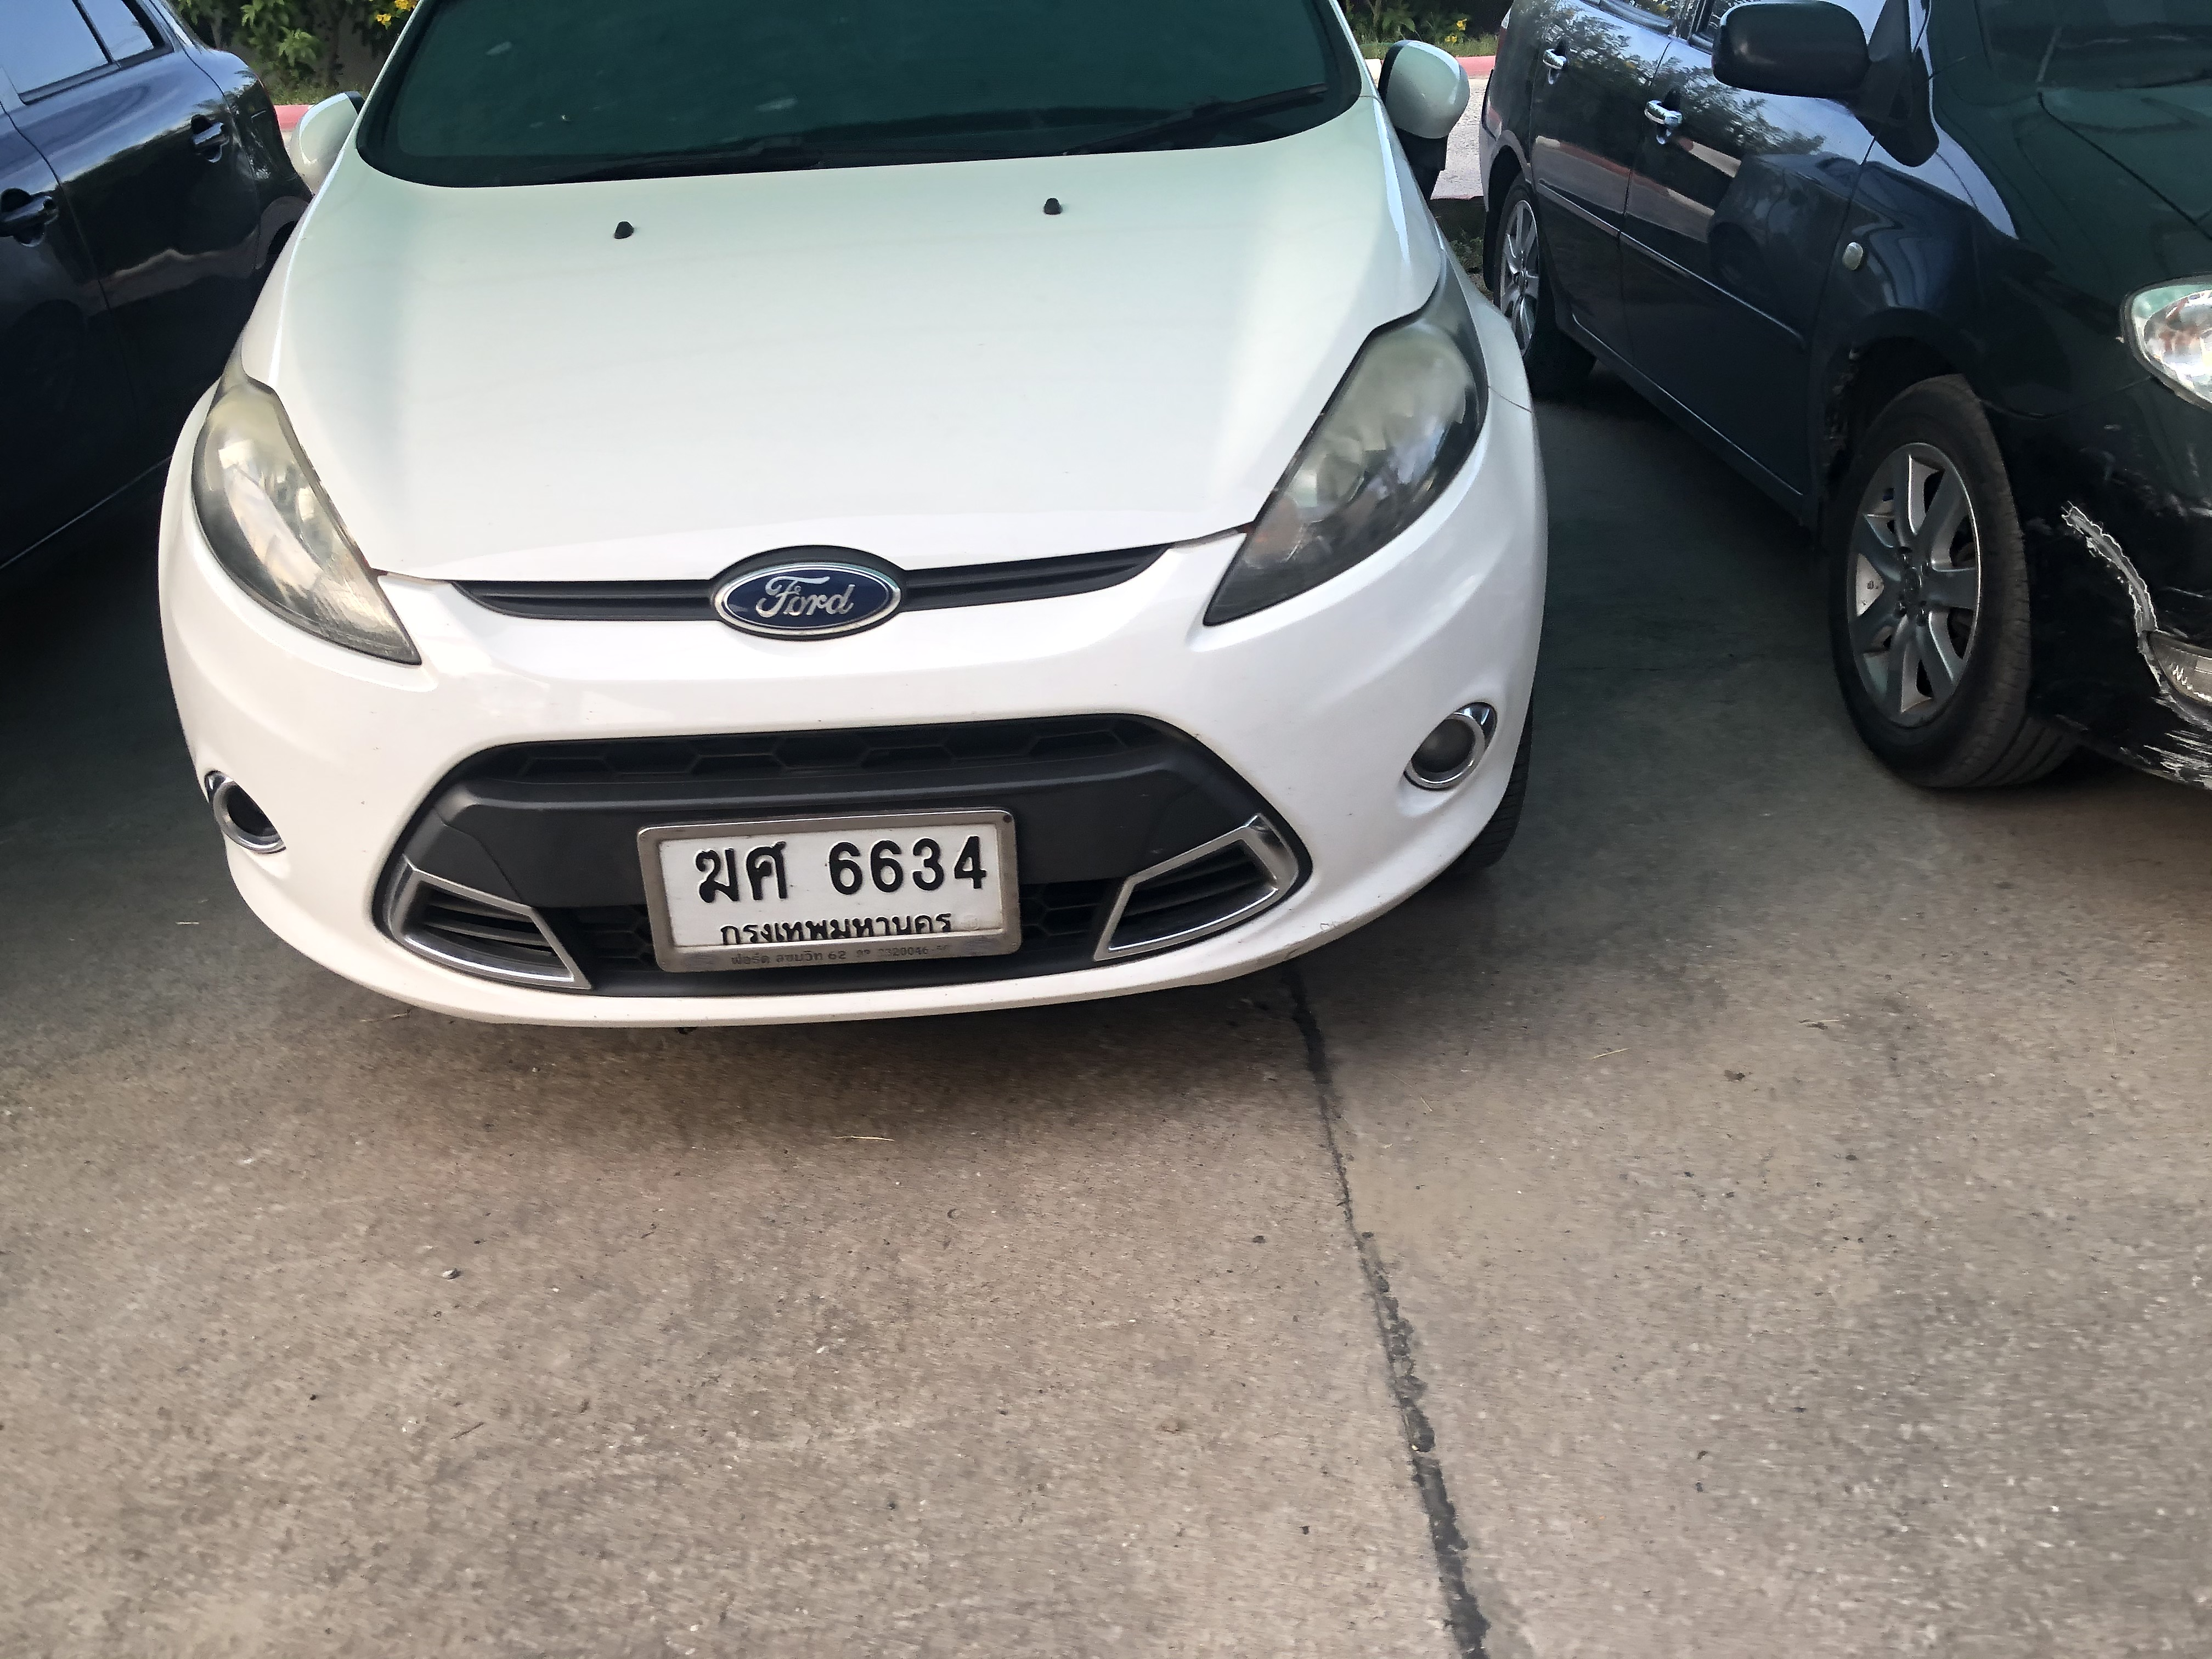in: (658, 830, 998, 936)
out: (632, 809, 1035, 976)
